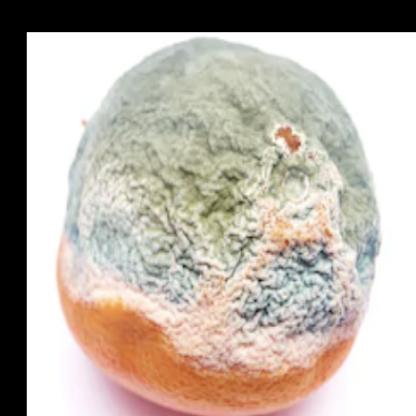rotten: (60, 40, 382, 416)
